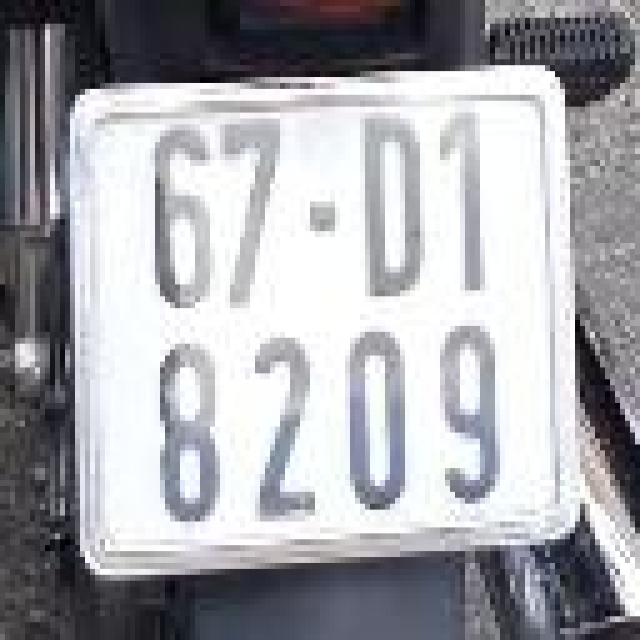0: (328, 305, 422, 519)
1: (428, 101, 492, 320)
2: (242, 329, 322, 518)
6: (142, 107, 218, 326)
7: (215, 98, 295, 323)
8: (142, 335, 232, 524)
9: (430, 308, 520, 528)
D: (348, 98, 438, 305)
